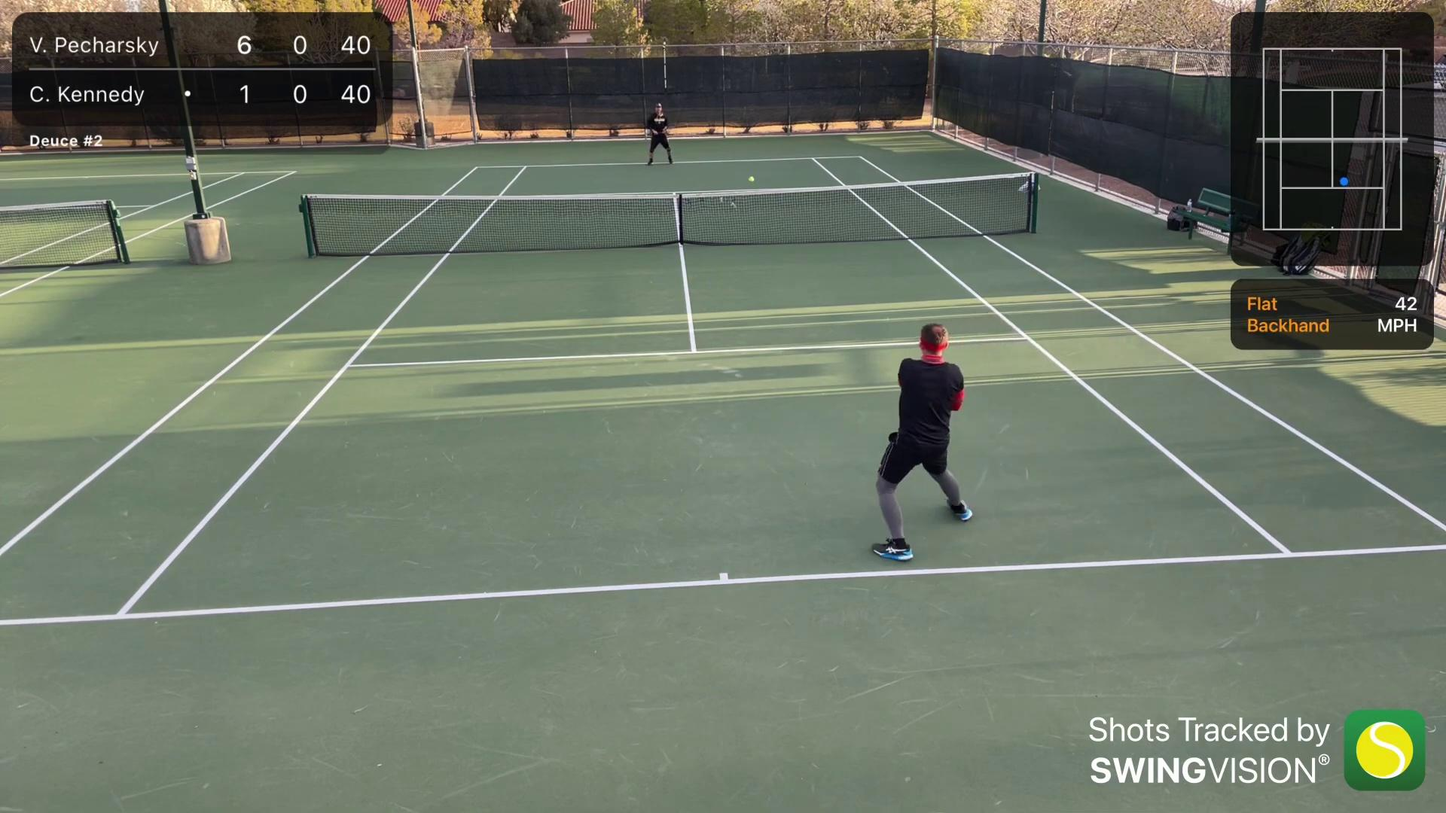ball: (747, 175, 756, 184)
